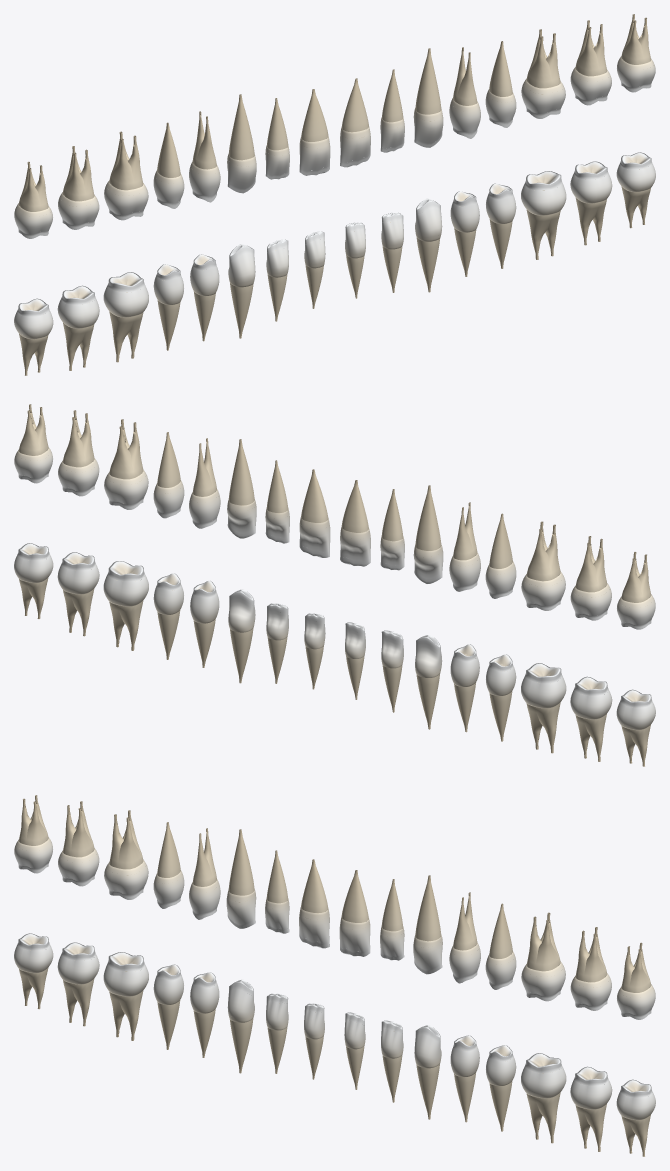
Rendered from Dentition_Permanent_Full_V2.1.glb.
3 renders of one model, top to bottom at view 1: azimuth 30°, elevation 25°; view 2: azimuth 150°, elevation 25°; view 3: azimuth 330°, elevation 25°, orthographic.
Parts seen in each view (by area): view 1: T11_Root_Single, T06_Root_Single, T09_Root_Single, T08_Root_Single, T13_Root_Single, T04_Root_Single, T14_Root_Mesiobuccal, T27_Root_Single, T10_Root_Single, T22_Root_Single, T07_Root_Single, T03_Root_Distobuccal (+17 smaller); view 2: T11_Root_Single, T06_Root_Single, T09_Root_Single, T08_Root_Single, T13_Root_Single, T04_Root_Single, T14_Root_Palatal, T03_Root_Palatal, T27_Root_Single, T22_Root_Single, T07_Root_Single, T10_Root_Single (+18 smaller); view 3: T06_Root_Single, T11_Root_Single, T08_Root_Single, T09_Root_Single, T04_Root_Single, T13_Root_Single, T03_Root_Mesiobuccal, T22_Root_Single, T07_Root_Single, T27_Root_Single, T10_Root_Single, T14_Root_Distobuccal (+17 smaller).
Boxes of the visible parts, x1,y1,x2,y2 form: T11_Root_Single: [415, 48, 441, 114]; T06_Root_Single: [228, 94, 254, 160]; T09_Root_Single: [341, 78, 368, 131]; T08_Root_Single: [301, 89, 328, 141]; T13_Root_Single: [489, 41, 512, 96]; T04_Root_Single: [157, 122, 180, 177]; T14_Root_Mesiobuccal: [527, 36, 552, 88]; T27_Root_Single: [230, 283, 253, 338]; T10_Root_Single: [381, 69, 403, 122]; T22_Root_Single: [416, 237, 440, 292]; T07_Root_Single: [266, 98, 288, 150]; T03_Root_Distobuccal: [109, 138, 134, 190]; T11_Root_Single: [228, 439, 254, 505]; T06_Root_Single: [415, 485, 441, 550]; T09_Root_Single: [301, 469, 328, 522]; T08_Root_Single: [341, 480, 368, 532]; T13_Root_Single: [157, 432, 180, 487]; T04_Root_Single: [489, 513, 512, 568]; T14_Root_Palatal: [109, 426, 134, 479]; T03_Root_Palatal: [526, 528, 552, 581]; T27_Root_Single: [416, 674, 439, 729]; T22_Root_Single: [230, 628, 253, 683]; T07_Root_Single: [381, 489, 403, 541]; T10_Root_Single: [266, 460, 288, 512]; T06_Root_Single: [228, 829, 254, 895]; T11_Root_Single: [415, 875, 441, 941]; T08_Root_Single: [301, 859, 328, 912]; T09_Root_Single: [341, 870, 368, 922]; T04_Root_Single: [157, 822, 180, 877]; T13_Root_Single: [489, 903, 512, 958]; T03_Root_Mesiobuccal: [117, 817, 142, 869]; T22_Root_Single: [416, 1064, 439, 1119]; T07_Root_Single: [266, 850, 288, 903]; T27_Root_Single: [229, 1018, 253, 1073]; T10_Root_Single: [381, 879, 403, 931]; T14_Root_Distobuccal: [535, 919, 560, 971].
Bounding box in the file's own units: 7.51 × 2.75 × 0.4345.
